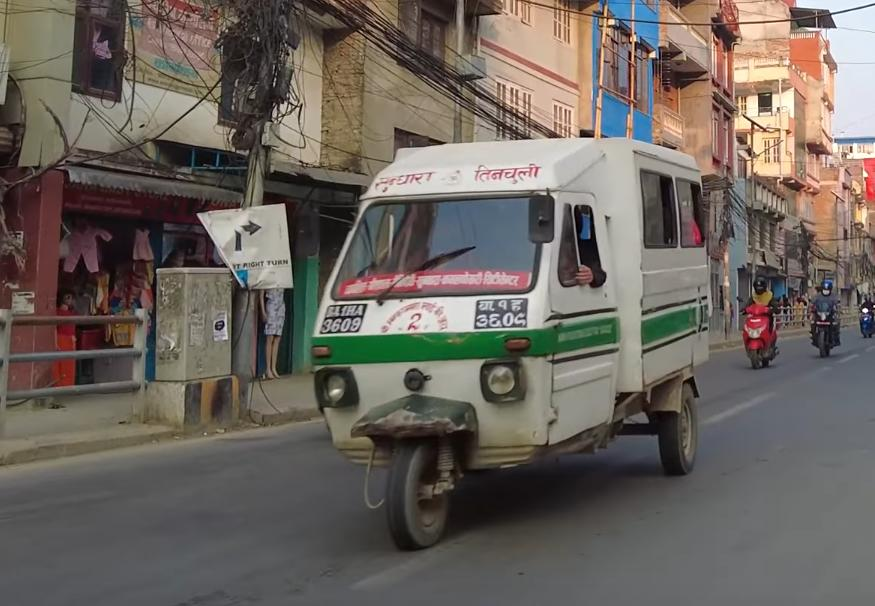bike: (805, 295, 847, 360)
scooter: (738, 296, 788, 372), (852, 303, 875, 339)
tempo: (293, 122, 731, 561)
